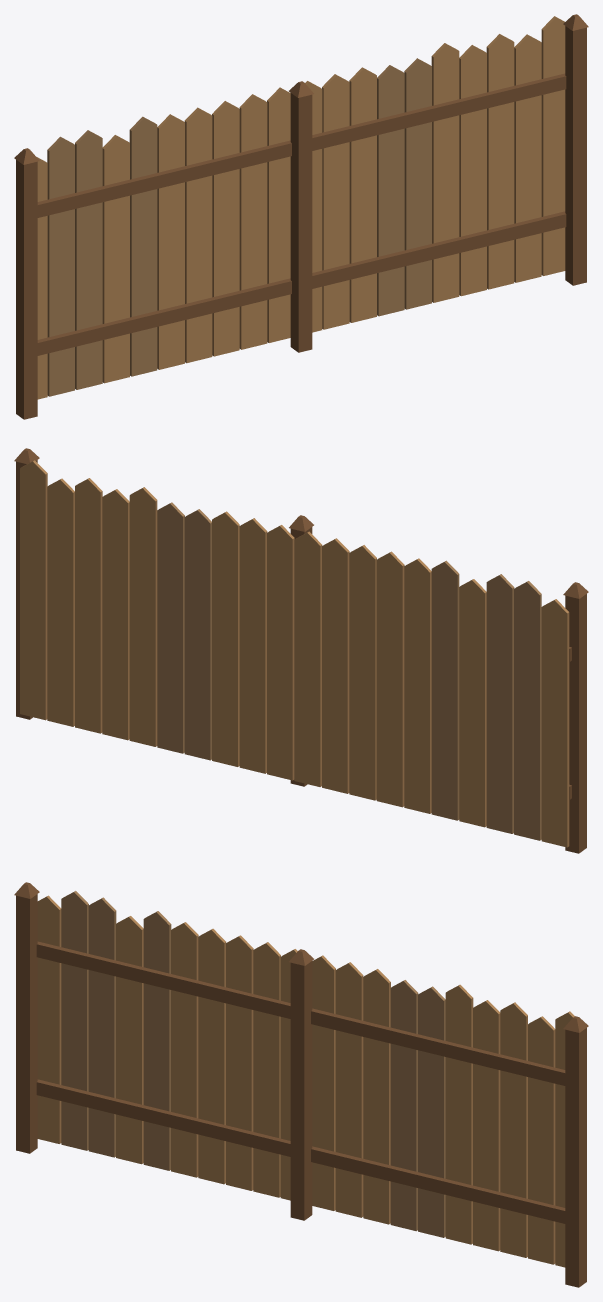
Rendered from fence_wood.glb.
3 views of the same model, one above another, from view 1: azimuth 30°, elevation 25°; view 2: azimuth 150°, elevation 25°; view 3: azimuth 330°, elevation 25° (orthographic).
Visible parts, largest first — view 1: fence_wood; view 2: fence_wood; view 3: fence_wood.
Boxes of the visible parts, bbox=[...] form: fence_wood: bbox=[14, 14, 588, 419]; fence_wood: bbox=[14, 448, 588, 853]; fence_wood: bbox=[14, 882, 588, 1287].
Size of the model in its own units: 4.12 by 1.85 by 0.159.
